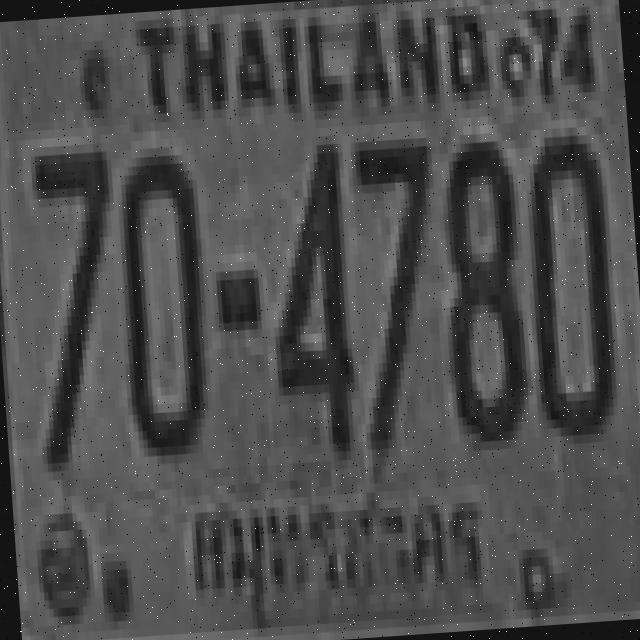0: (518, 125, 615, 437), (110, 146, 210, 448)
4: (261, 136, 354, 456)
7: (23, 143, 125, 463), (349, 129, 447, 449)
8: (434, 136, 526, 439)
SamutSakhon: (184, 462, 496, 640)
